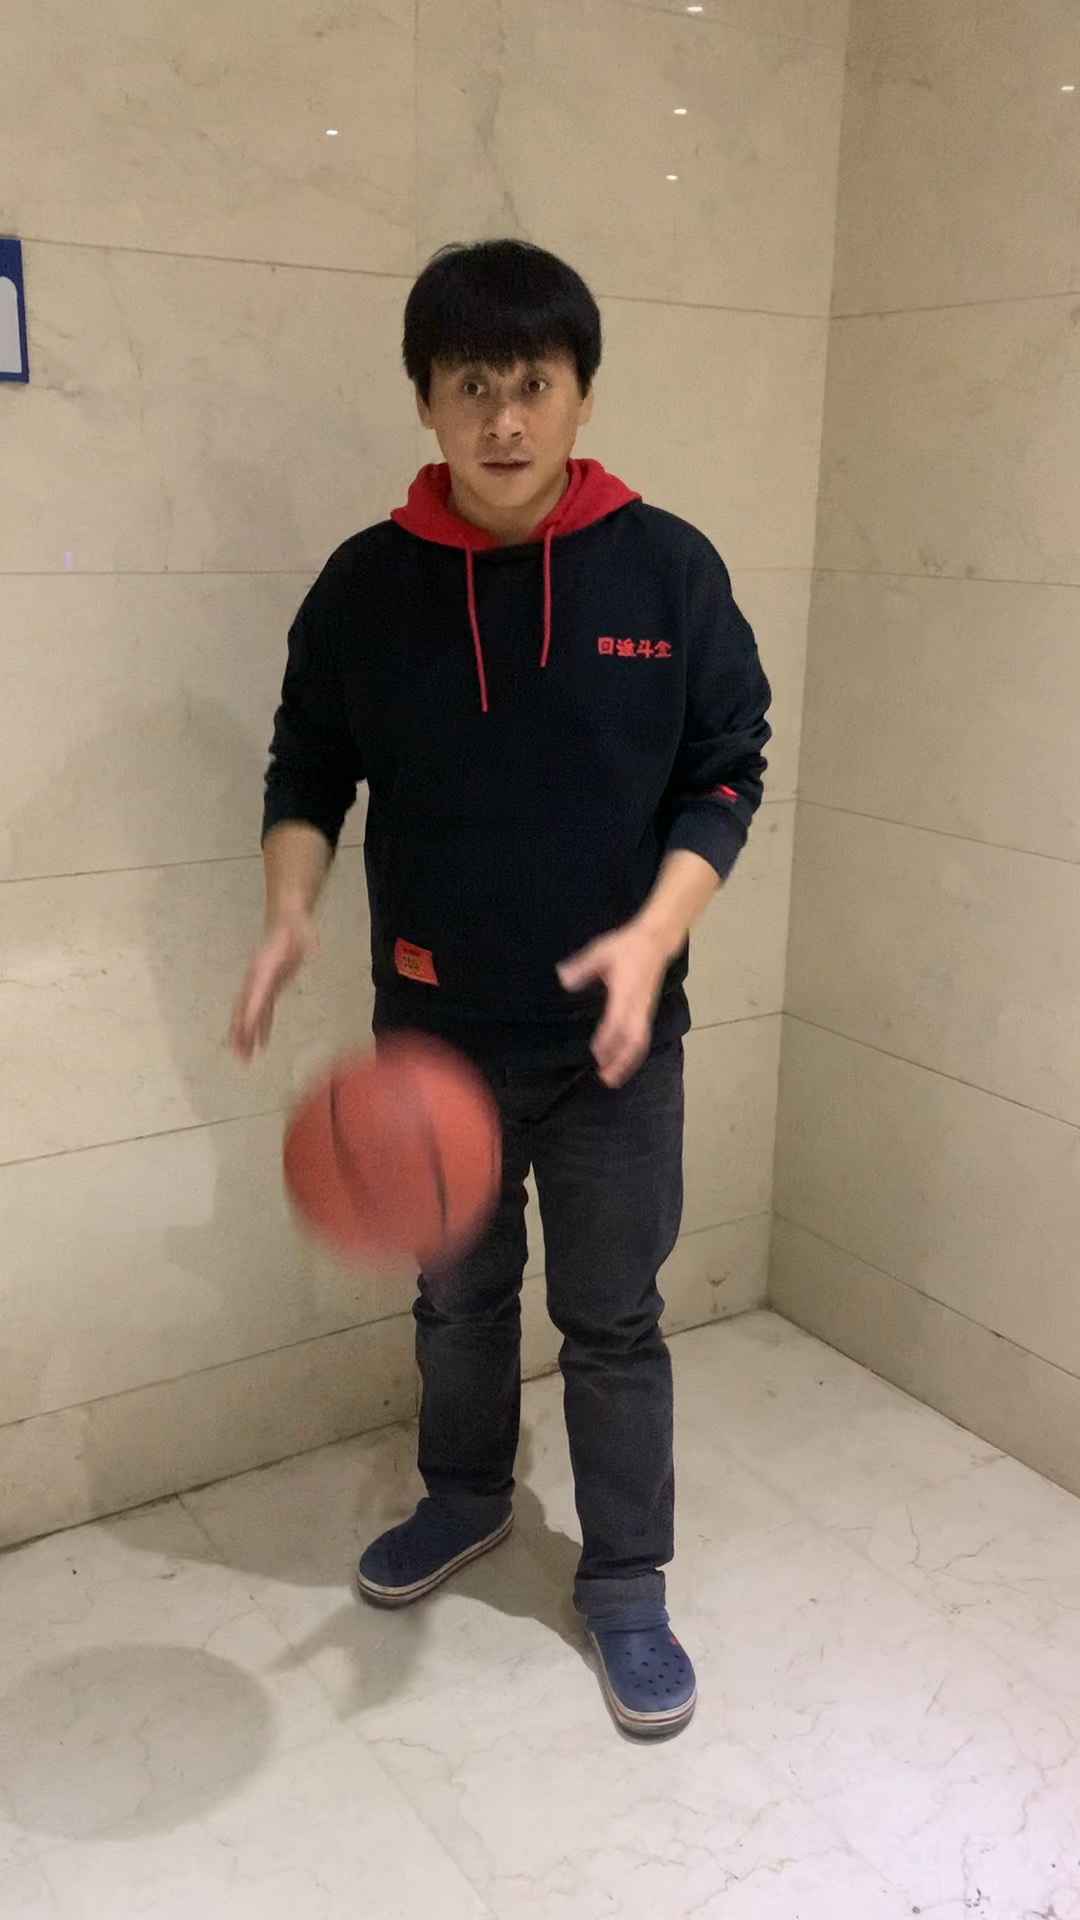ball: (280, 1054, 502, 1253)
